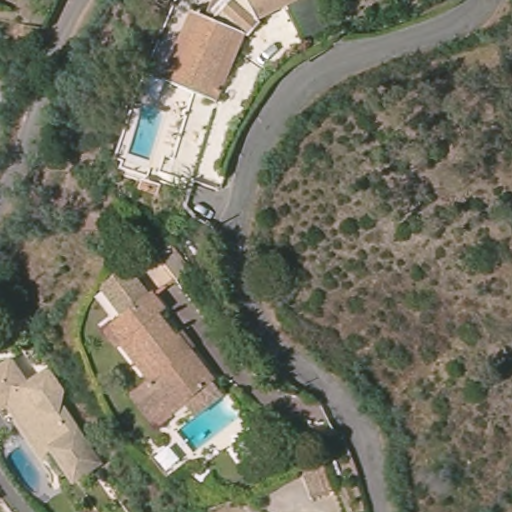pool: (179, 396, 236, 451), (127, 102, 165, 161), (7, 441, 45, 499)
